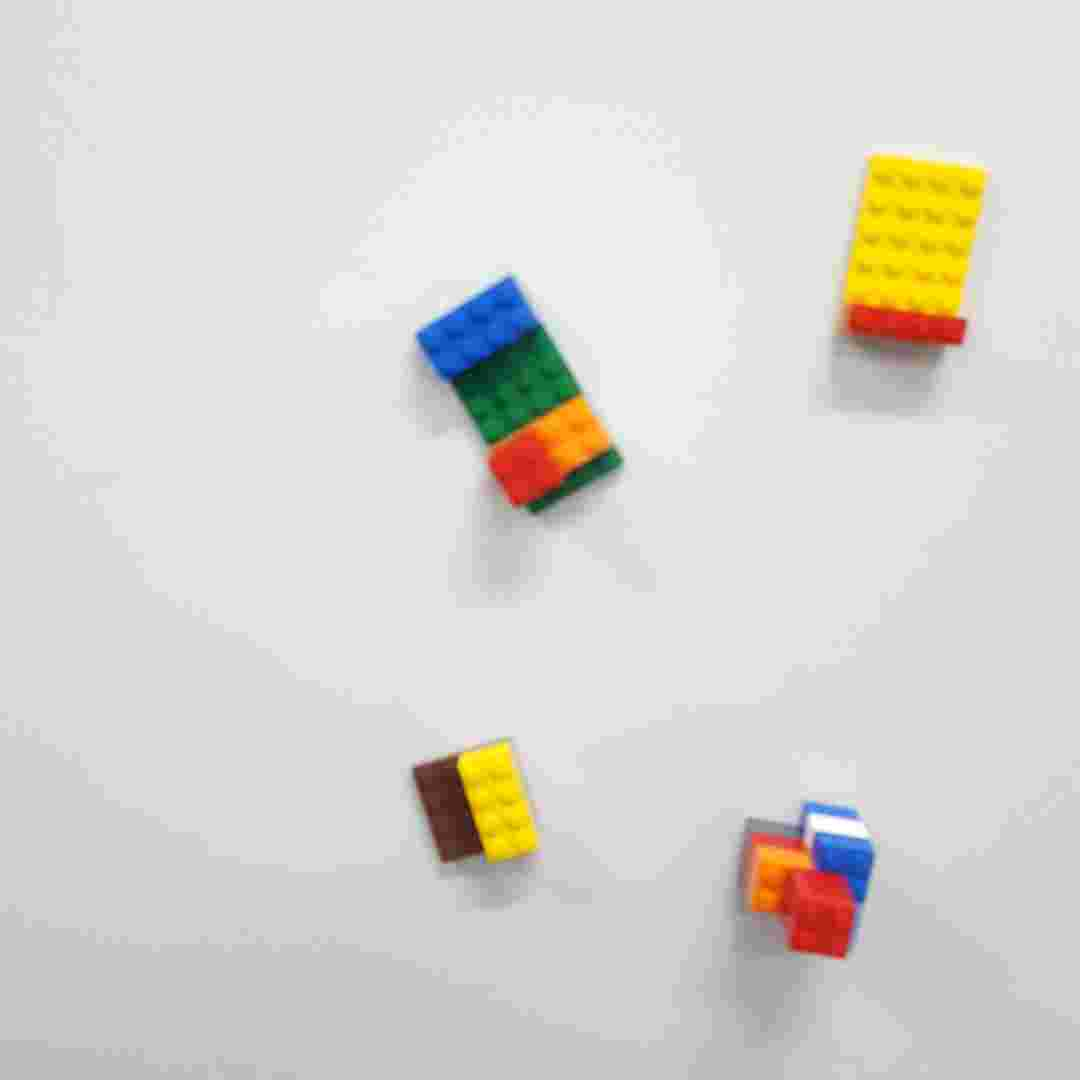LEGO: (412, 270, 633, 519), (836, 149, 987, 358), (728, 790, 880, 961), (412, 734, 538, 868)
